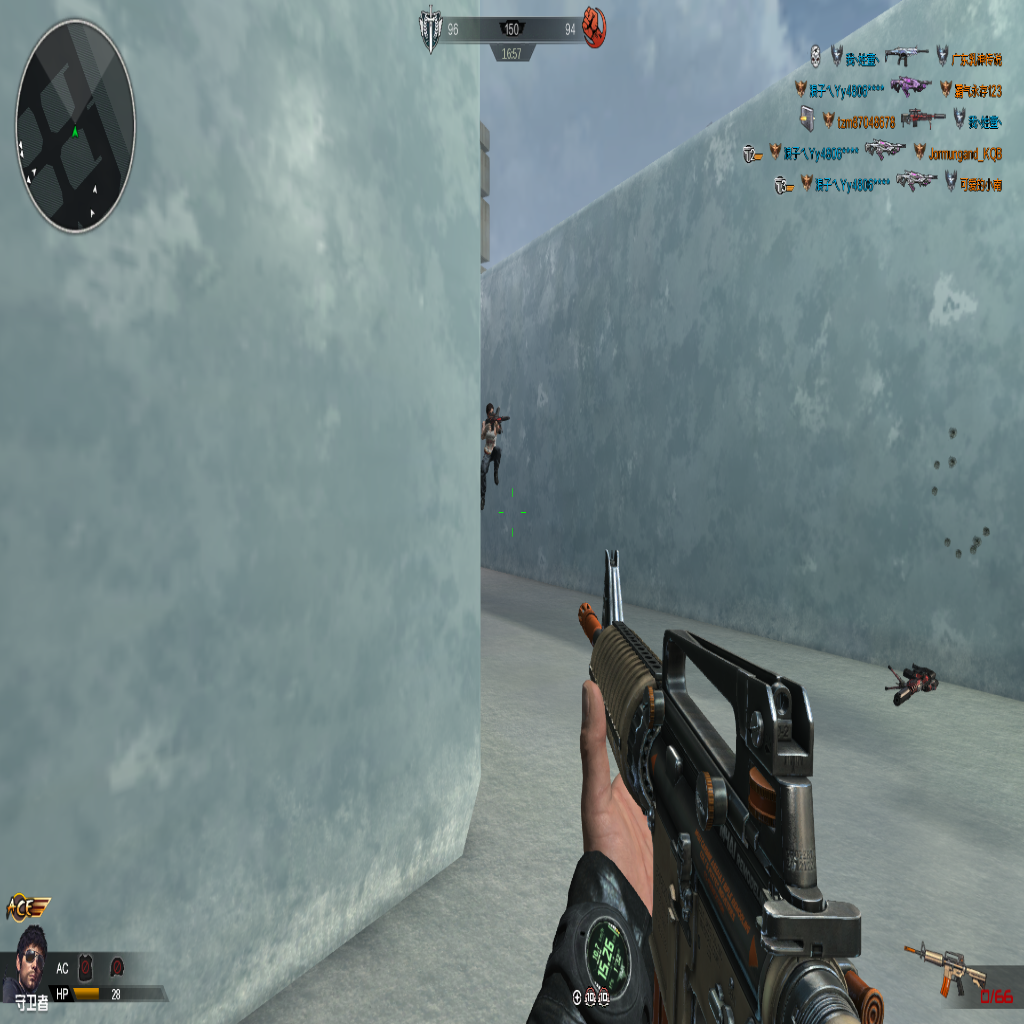tt: (479, 403, 507, 495)
